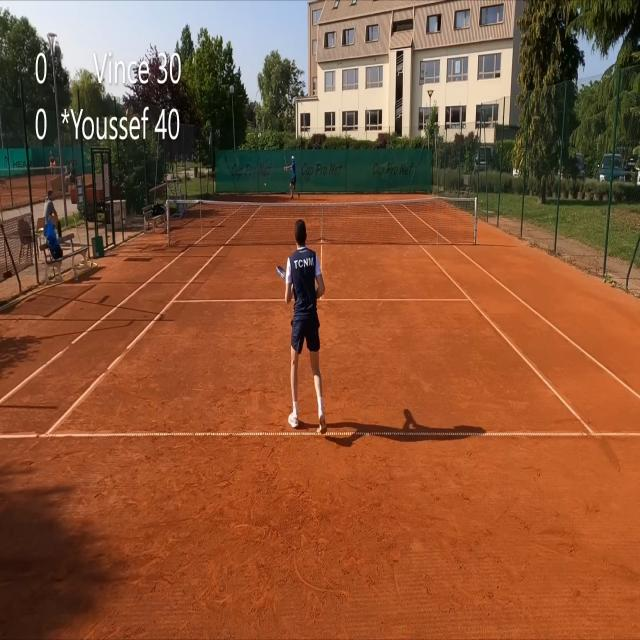ball: (264, 182, 266, 187)
